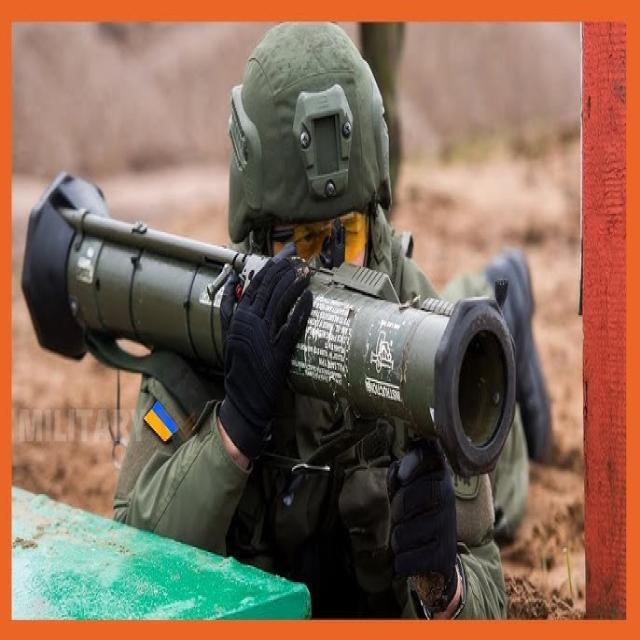bazooka: (19, 139, 518, 512)
